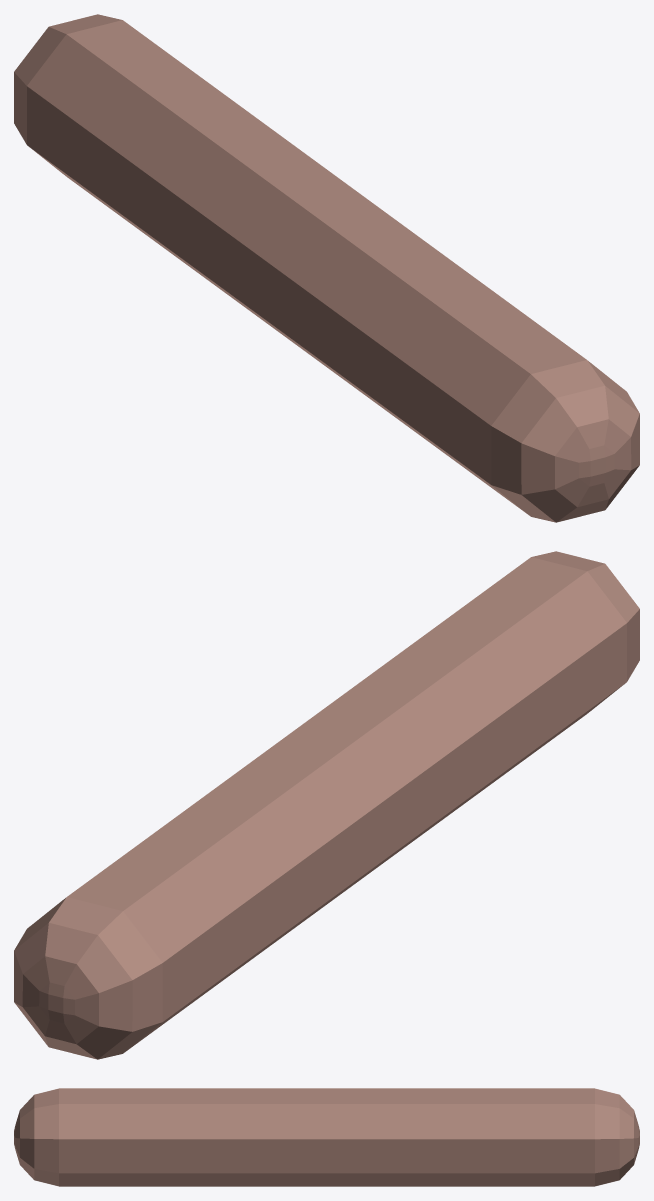
Rendered from quaternius-ultimate-food-sausage-raw.glb.
The picture shows the model from 3 angles, top to bottom: view 1: azimuth 30°, elevation 25°; view 2: azimuth 150°, elevation 25°; view 3: azimuth 270°, elevation 25°; orthographic projection. The views are drawn at different scales.
Visible parts, largest first — view 1: Sausage_Raw; view 2: Sausage_Raw; view 3: Sausage_Raw.
Part boxes in pixels (<box>): Sausage_Raw: <box>14,14,639,522</box>; Sausage_Raw: <box>14,551,639,1059</box>; Sausage_Raw: <box>14,1088,639,1186</box>.
Size of the model in its own units: 0.2396 by 0.2414 by 1.66.
